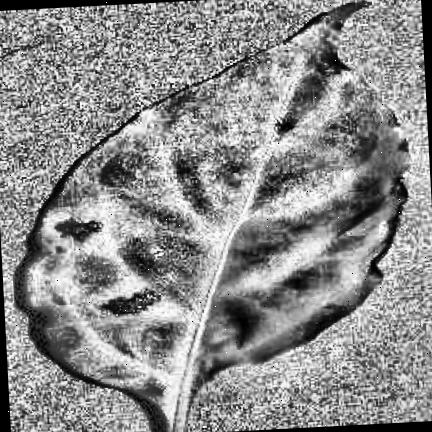leaf: (25, 2, 409, 432)
